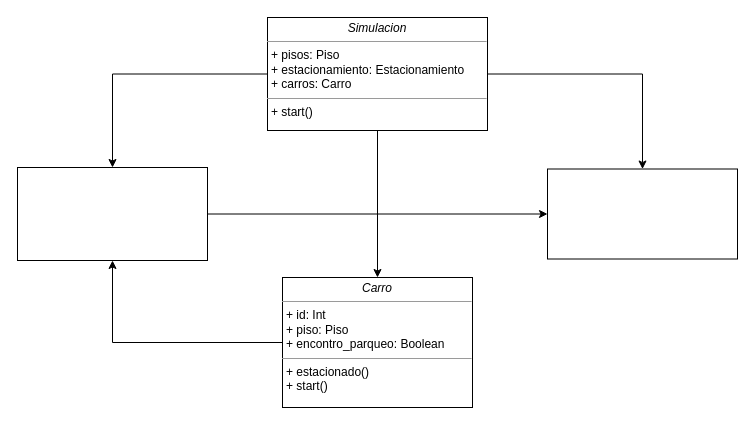
Some shapes in this 755 by 425 pixel diagram are drawn without their labels. Each missing label, with the centre of its shape:
Estacionamiento + pisos: Piso + parquimetros: Int: (642,213)
Piso + id: Int + num_parqueos: Int: (112,213)
